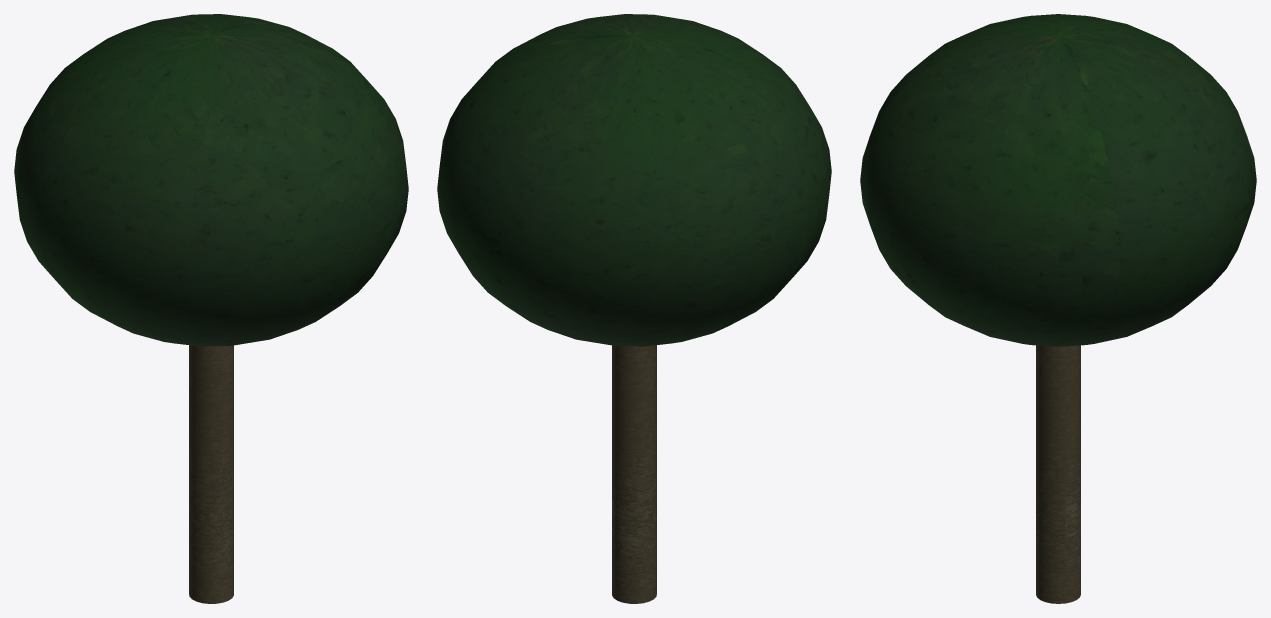
The model's file is tree1.obj.
3 renders of one model, left to right at view 1: azimuth 30°, elevation 25°; view 2: azimuth 150°, elevation 25°; view 3: azimuth 270°, elevation 25°, orthographic.
Parts seen in each view (by area): view 1: pSphere1, pCylinder1; view 2: pSphere1, pCylinder1; view 3: pSphere1, pCylinder1.
Part boxes in pixels (x1=…): pSphere1: x1=14, y1=14, x2=408, y2=346; pCylinder1: x1=189, y1=345, x2=233, y2=603; pSphere1: x1=437, y1=14, x2=831, y2=346; pCylinder1: x1=612, y1=345, x2=656, y2=603; pSphere1: x1=860, y1=14, x2=1256, y2=346; pCylinder1: x1=1036, y1=345, x2=1080, y2=603.
Size of the model in its own units: 17.55 by 27.25 by 17.55.
Materials: 2 (2 with a texture image).
